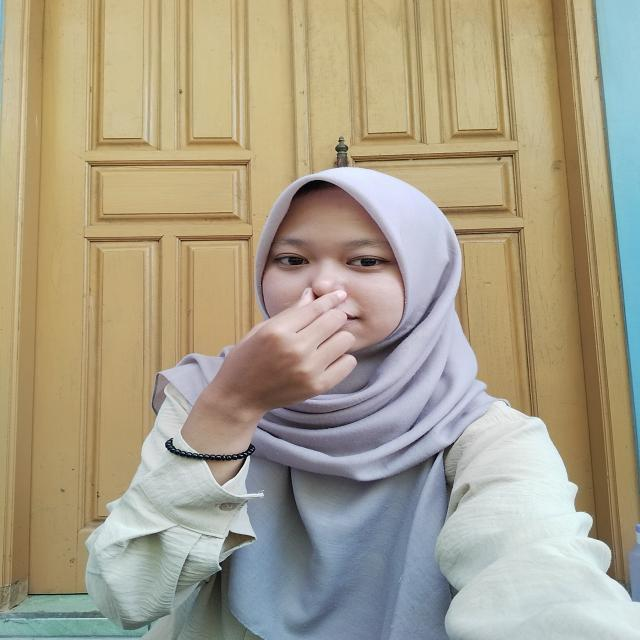bau: (194, 255, 367, 418)
